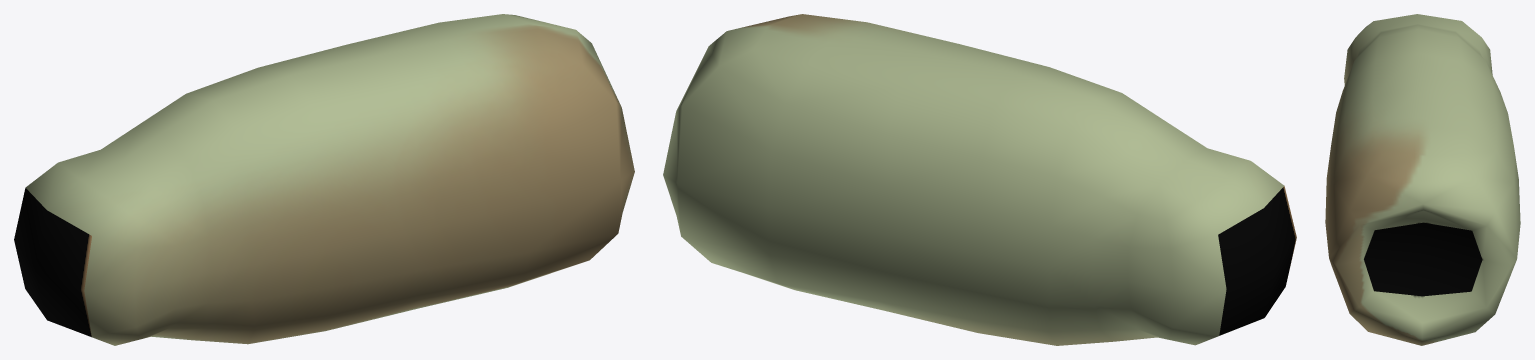
Rendered from Shrek_Brazo.obj.
3 views of the same model, side by side, from view 1: azimuth 30°, elevation 25°; view 2: azimuth 150°, elevation 25°; view 3: azimuth 270°, elevation 25° (orthographic). The views are drawn at different scales.
Parts seen in each view (by area): view 1: Brazo_Brazo_Cube.001; view 2: Brazo_Brazo_Cube.001; view 3: Brazo_Brazo_Cube.001.
Part boxes in pixels (x1,y1,x2,y2): Brazo_Brazo_Cube.001: (14,14,634,345); Brazo_Brazo_Cube.001: (663,14,1296,345); Brazo_Brazo_Cube.001: (1325,14,1520,345).
Bounding box in the file's own units: 0.8551 × 0.3611 × 0.3292.
